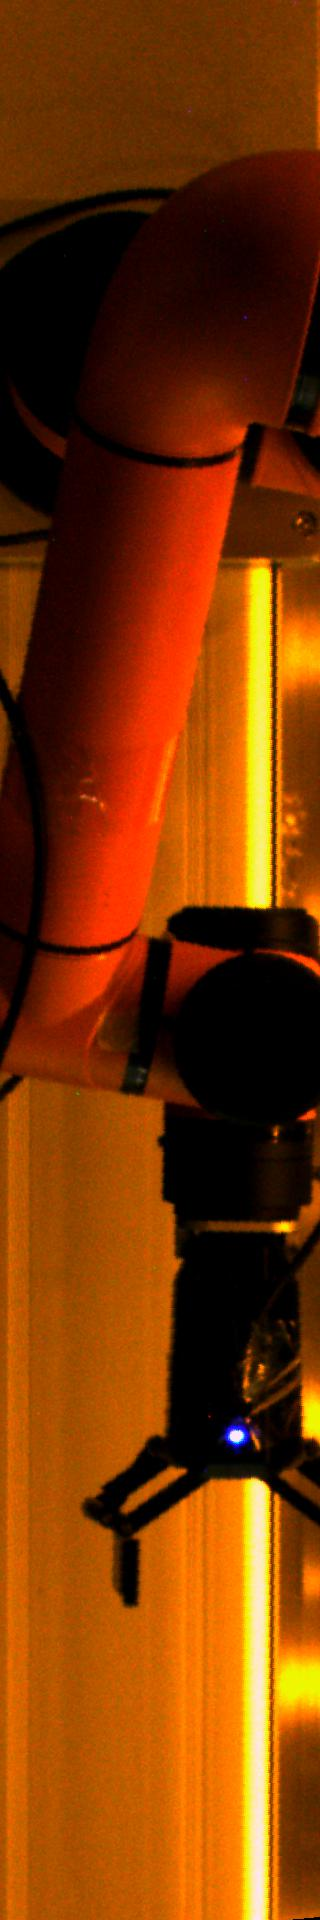keyPoint_1: (221, 1418, 251, 1449)
